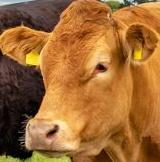muzzles: (21, 117, 78, 158)
